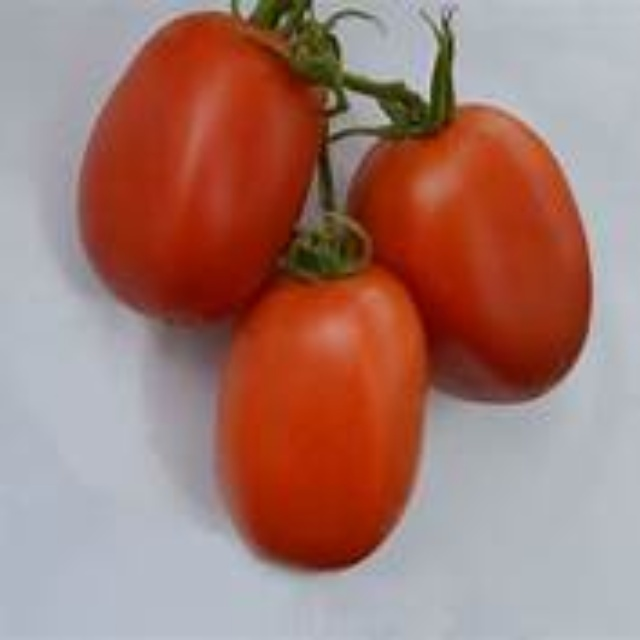tomato: (357, 91, 610, 408), (84, 9, 330, 333), (215, 250, 439, 587)
